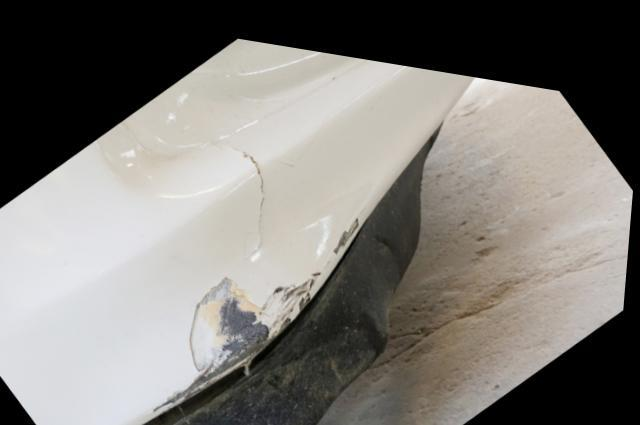crack: (212, 132, 269, 251)
scratch: (158, 198, 360, 410)
